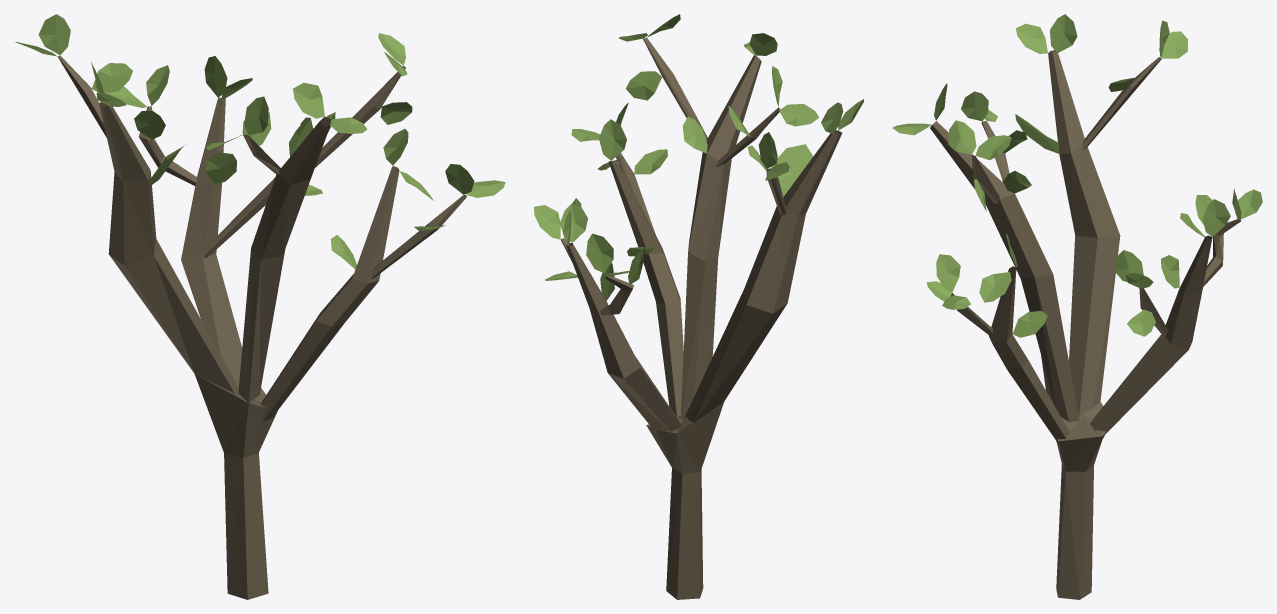
File: Cherry_3.5_4.fbx
The picture shows the model from 3 angles, left to right: view 1: azimuth 30°, elevation 25°; view 2: azimuth 150°, elevation 25°; view 3: azimuth 270°, elevation 25°; orthographic projection. The views are drawn at different scales.
Parts seen in each view (by area): view 1: Cherry_3_5_4; view 2: Cherry_3_5_4; view 3: Cherry_3_5_4.
Boxes of the visible parts, <box> form: Cherry_3_5_4: <box>15,14,505,599</box>; Cherry_3_5_4: <box>534,14,863,599</box>; Cherry_3_5_4: <box>892,14,1262,599</box>.
Bounding box in the file's own units: 233 × 352 × 231.
